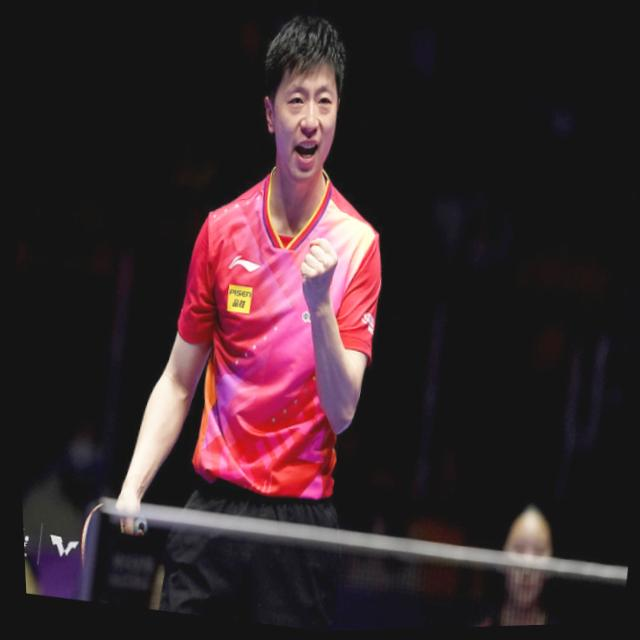TT Net: (81, 493, 628, 631)
TT Racket: (77, 495, 128, 582)
